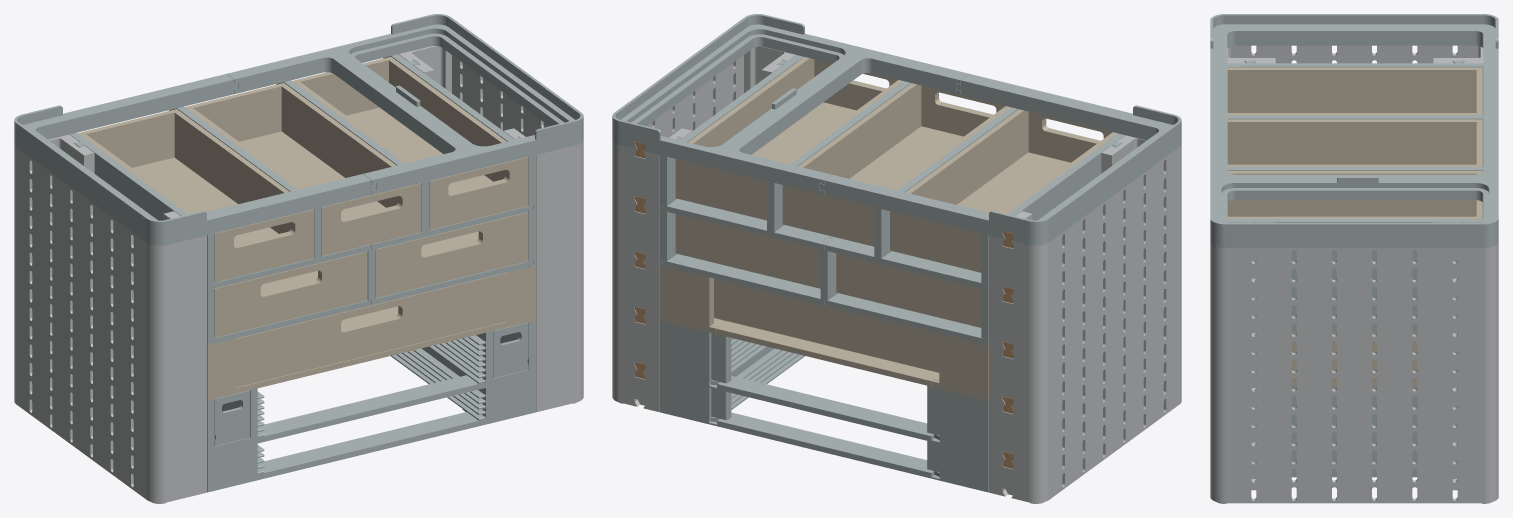
Rendered from stacknest-pegboard.glb.
The picture shows the model from 3 angles, left to right: view 1: azimuth 30°, elevation 25°; view 2: azimuth 150°, elevation 25°; view 3: azimuth 270°, elevation 25°; orthographic projection.
Visible parts, largest first — view 1: device_adapter_2, 3drawers_drawer_2, 3drawers_drawer_1, device_adapter_1, standard_2_drawer_1, 3drawers_drawer_3, 3drawers_end_left_1, standard_1_end_left_1, standard_2_end_left_1, 2drawers_end_left_1, 2drawers_drawer_1, 2drawers_drawer_2 (+25 smaller); view 2: device_adapter_2, device_adapter_1, 3drawers_drawer_2, 3drawers_drawer_1, 3drawers_end_left_1, 3drawers_drawer_3, standard_2_end_left_1, standard_1_end_left_1, 2drawers_end_left_1, standard_2_drawer_2, low_0_end_left_1, 3drawers_end_right_1 (+25 smaller); view 3: device_adapter_2, 2drawers_end_right_1, standard_2_end_right_1, standard_1_end_right_1, 3drawers_end_right_1, 3drawers_drawer_1, 3drawers_drawer_2, device_adapter_1, low_0_end_right_1, 3drawers_drawer_3, 3drawers_end_left_1, 3drawers_side_right (+7 smaller).
Boxes of the visible parts, x1,y1,x2,y2 form: device_adapter_2: [226, 14, 583, 194]; 3drawers_drawer_2: [185, 83, 421, 256]; 3drawers_drawer_1: [78, 109, 314, 282]; device_adapter_1: [14, 74, 375, 245]; standard_2_drawer_1: [235, 272, 507, 387]; 3drawers_drawer_3: [292, 57, 528, 229]; 3drawers_end_left_1: [14, 134, 206, 300]; standard_1_end_left_1: [14, 310, 206, 466]; standard_2_end_left_1: [14, 255, 206, 411]; 2drawers_end_left_1: [14, 200, 206, 355]; 2drawers_drawer_1: [214, 251, 367, 337]; 2drawers_drawer_2: [375, 212, 528, 298]; device_adapter_2: [612, 14, 969, 194]; device_adapter_1: [820, 74, 1181, 245]; 3drawers_drawer_2: [782, 83, 1010, 246]; 3drawers_drawer_1: [890, 109, 1116, 272]; 3drawers_end_left_1: [989, 135, 1181, 300]; 3drawers_drawer_3: [675, 57, 903, 220]; standard_2_end_left_1: [989, 255, 1181, 411]; standard_1_end_left_1: [989, 310, 1181, 466]; 2drawers_end_left_1: [989, 200, 1181, 355]; standard_2_drawer_2: [714, 278, 939, 372]; low_0_end_left_1: [989, 365, 1181, 503]; 3drawers_end_right_1: [612, 46, 795, 209]; device_adapter_2: [1210, 128, 1498, 247]; 2drawers_end_right_1: [1210, 290, 1498, 357]; standard_2_end_right_1: [1210, 344, 1498, 411]; standard_1_end_right_1: [1210, 399, 1498, 466]; 3drawers_end_right_1: [1210, 222, 1498, 302]; 3drawers_drawer_1: [1227, 67, 1482, 115]; 3drawers_drawer_2: [1227, 119, 1482, 166]; device_adapter_1: [1210, 14, 1498, 128]; low_0_end_right_1: [1210, 454, 1498, 503]; 3drawers_drawer_3: [1227, 171, 1482, 218]; 3drawers_end_left_1: [1227, 45, 1483, 63]; 3drawers_side_right: [1227, 218, 1483, 276].
Size of the model in its own units: 0.495 by 0.309 by 0.287.
